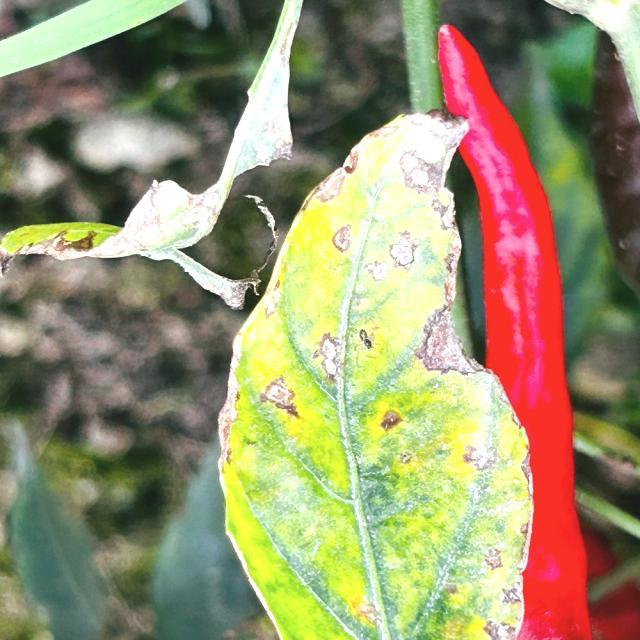Bercak Daun Serkospora: (216, 109, 536, 640)
